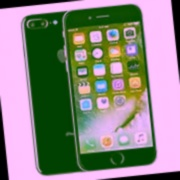iphone: (66, 8, 152, 172)
